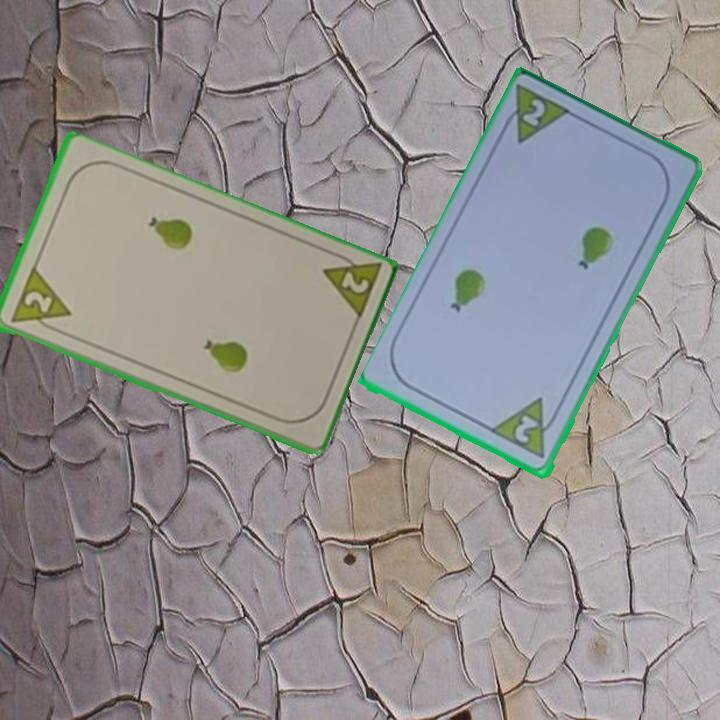2p: (495, 81, 576, 148), (318, 247, 384, 325), (489, 395, 564, 463), (20, 287, 55, 317)
